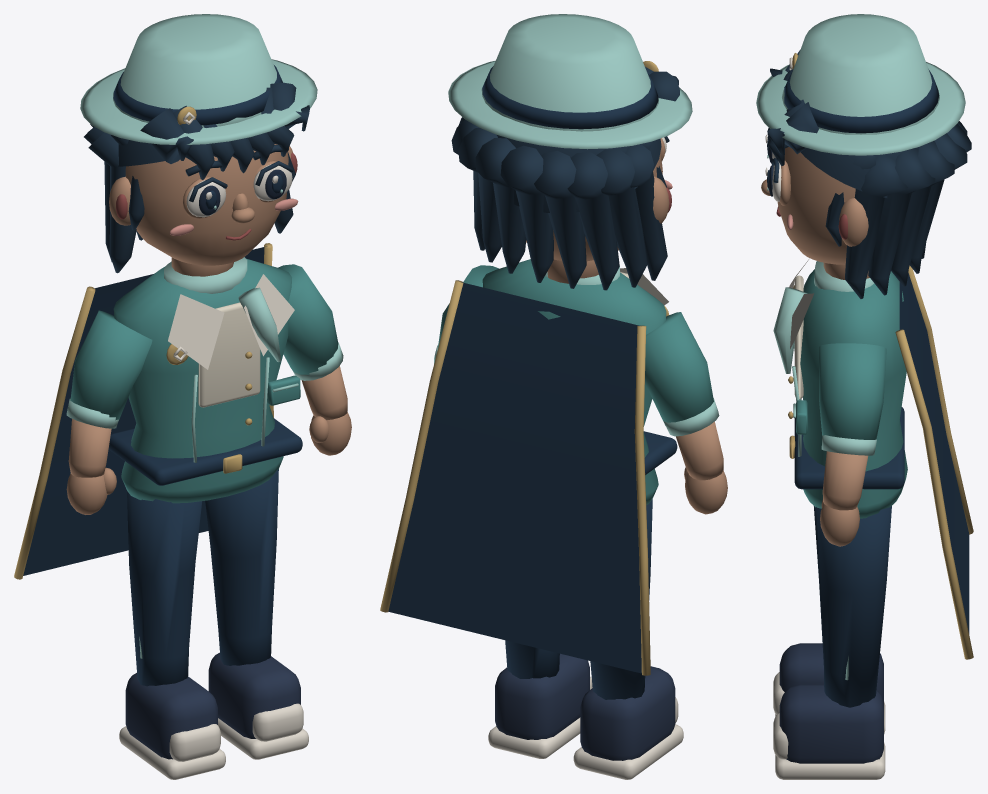
The model's file is xingyin-characters-v1__elite_tide_hunter.glb.
The picture shows the model from 3 angles, left to right: view 1: azimuth 30°, elevation 25°; view 2: azimuth 150°, elevation 25°; view 3: azimuth 270°, elevation 25°; orthographic projection. The views are drawn at different scales.
Visible parts, largest first — view 1: figure.018; view 2: figure.018; view 3: figure.018.
Boxes of the visible parts, x1,y1,x2,y2 form: figure.018: (14, 14, 351, 779); figure.018: (380, 14, 727, 779); figure.018: (756, 14, 973, 779).
Size of the model in its own units: 1.1 by 2.63 by 0.7295.
